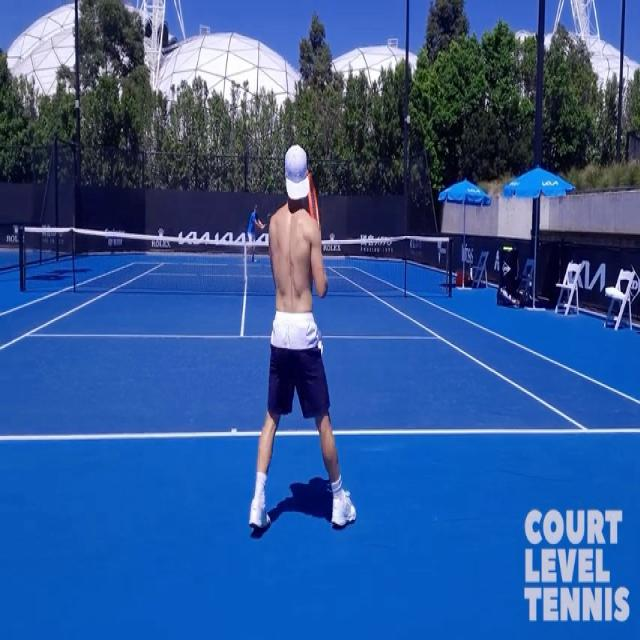ready-position: (253, 143, 356, 526)
